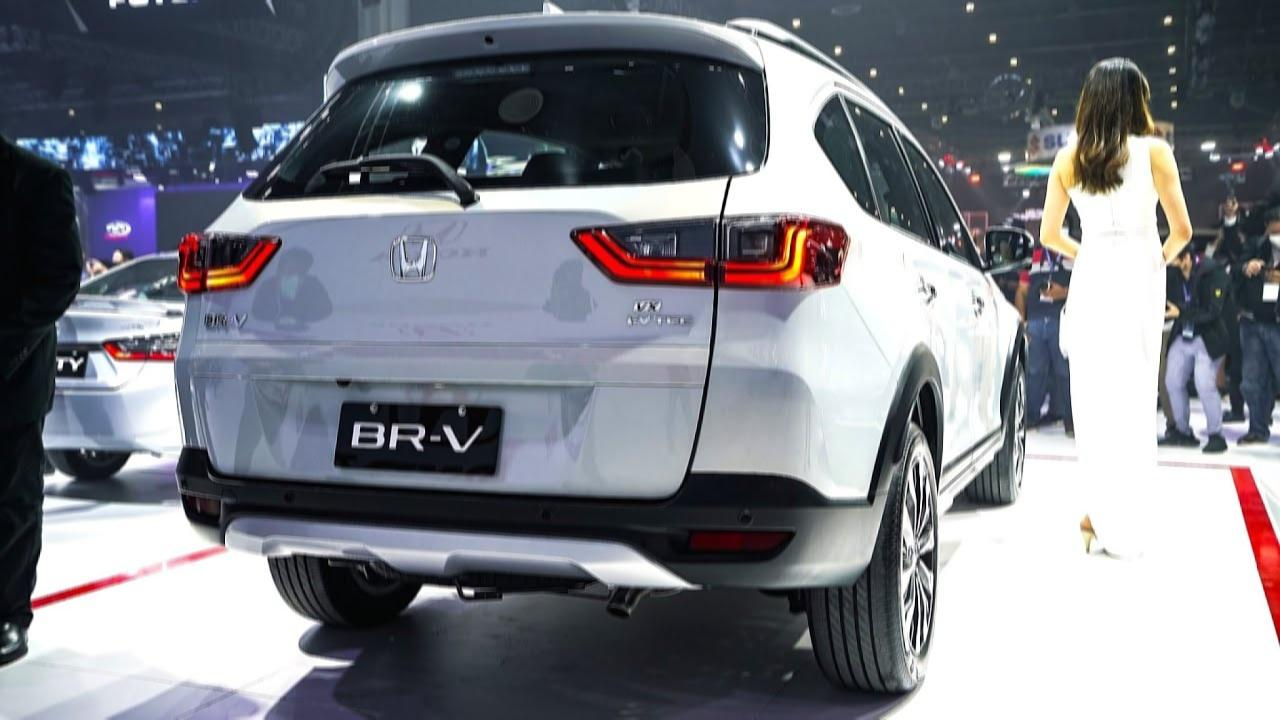Car boot: (204, 12, 739, 513)
Driver-s door - -F-R-: (908, 119, 1004, 484)
Fender - -R-R-: (774, 137, 909, 456)
Passenger-s door - -R-R-: (856, 88, 950, 484)
Rear bumper: (172, 295, 914, 600)
Rear light - -L-: (170, 218, 290, 300)
Rear light - -R-: (558, 204, 863, 299)
Side bumper - -R-: (926, 416, 1025, 526)
Side mirror - -R-: (972, 208, 1046, 290)
